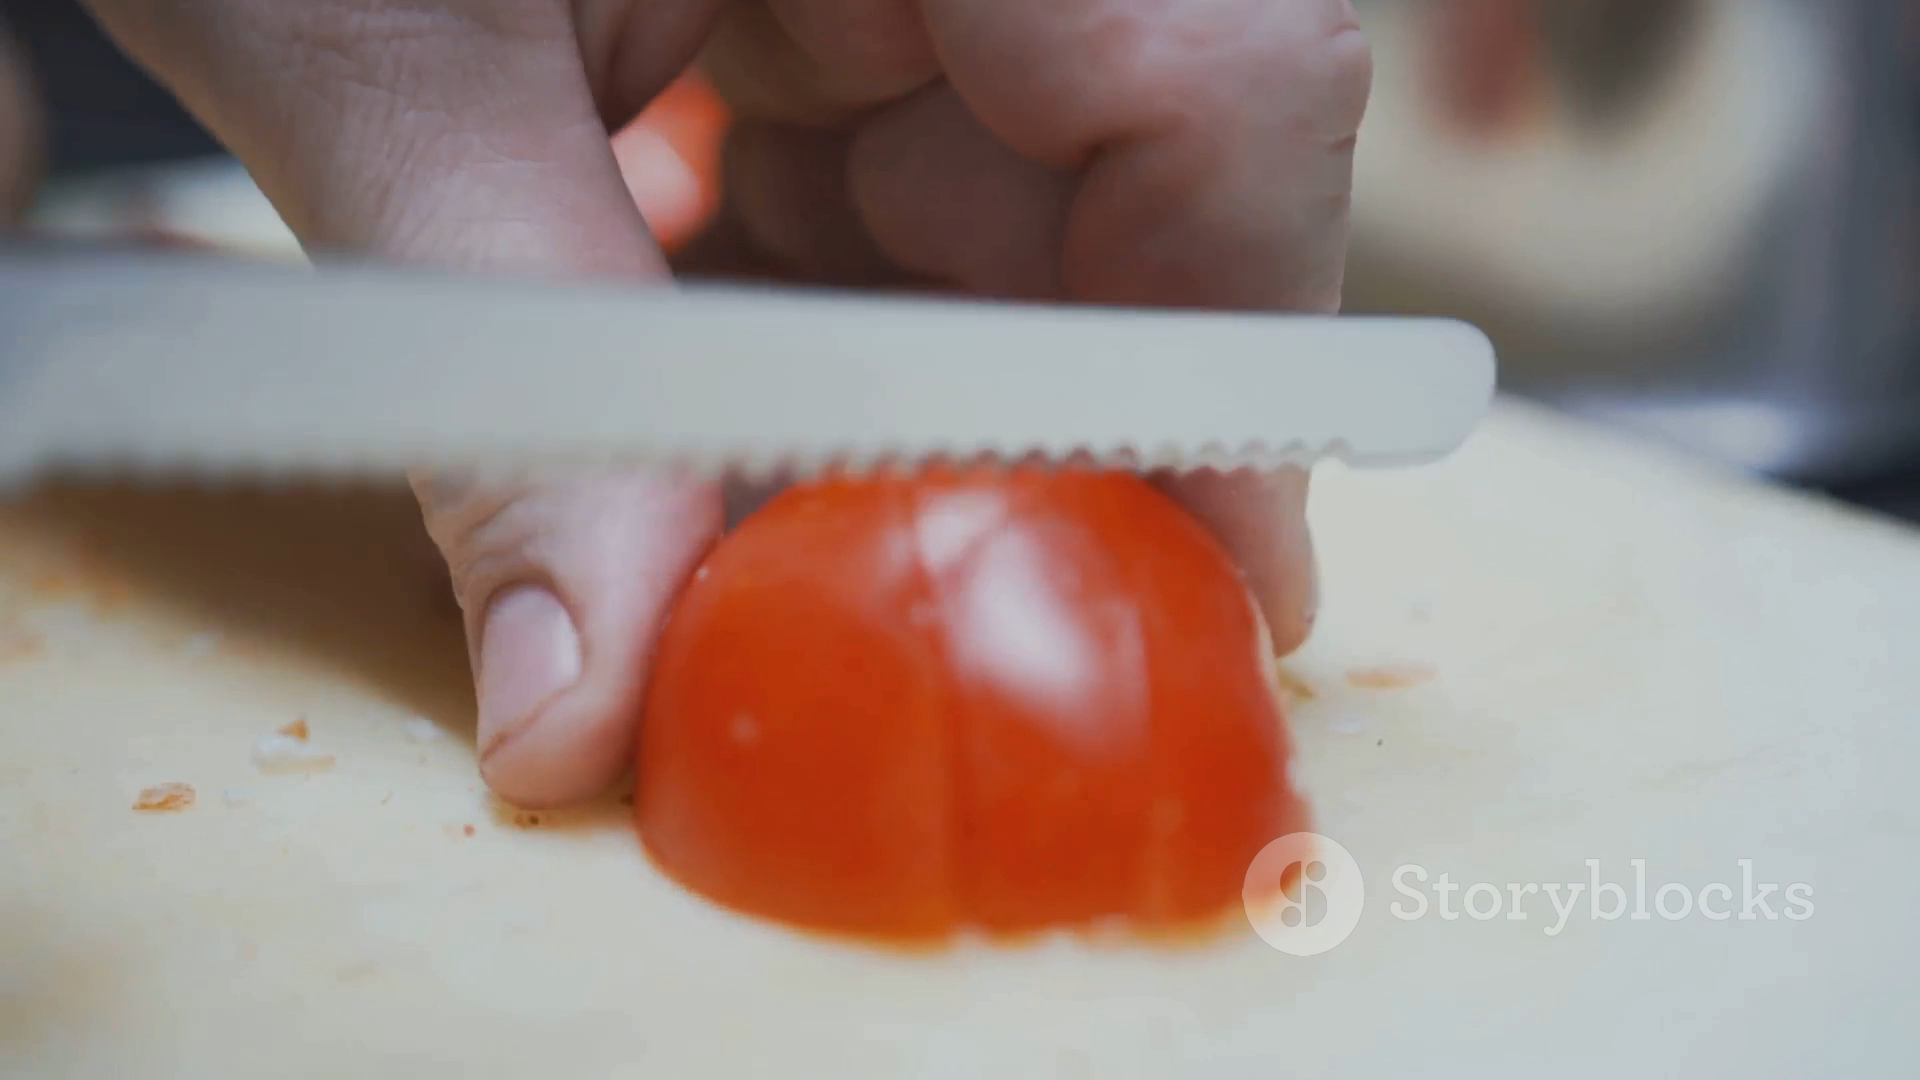cortante: (0, 245, 1498, 484)
